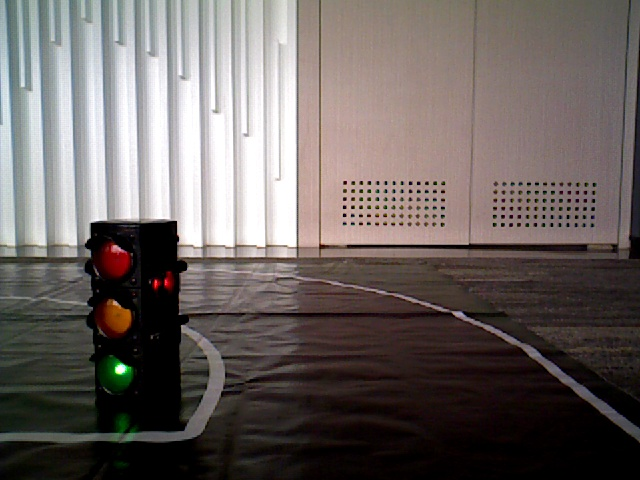green: (90, 224, 148, 395)
